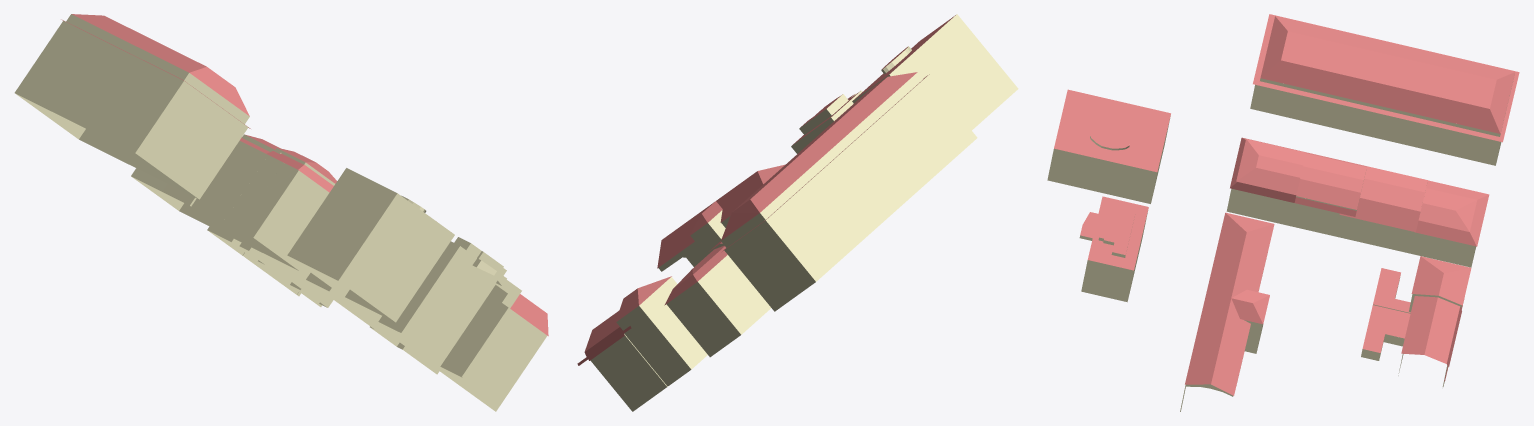
File: tile_042.glb
The picture shows the model from 3 angles, left to right: view 1: azimuth 30°, elevation 25°; view 2: azimuth 150°, elevation 25°; view 3: azimuth 270°, elevation 25°; orthographic projection. The views are drawn at different scales.
Parts seen in each view (by area): view 1: Batched_Building_ID_E801D4BC-C154-451A-9F4F-ADCD44055641; view 2: Batched_Building_ID_E801D4BC-C154-451A-9F4F-ADCD44055641; view 3: Batched_Building_ID_E801D4BC-C154-451A-9F4F-ADCD44055641.
Boxes of the visible parts, x1,y1,x2,y2 form: Batched_Building_ID_E801D4BC-C154-451A-9F4F-ADCD44055641: (14,14,548,411); Batched_Building_ID_E801D4BC-C154-451A-9F4F-ADCD44055641: (577,14,1018,411); Batched_Building_ID_E801D4BC-C154-451A-9F4F-ADCD44055641: (1047,14,1519,411).
Size of the model in its own units: 115 by 104 by 150.
